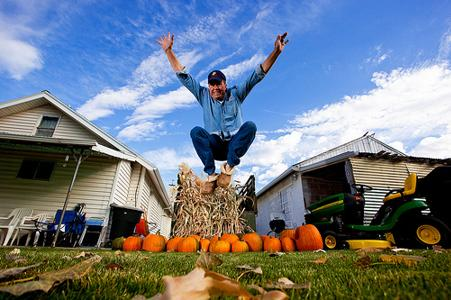person: (156, 32, 286, 178)
